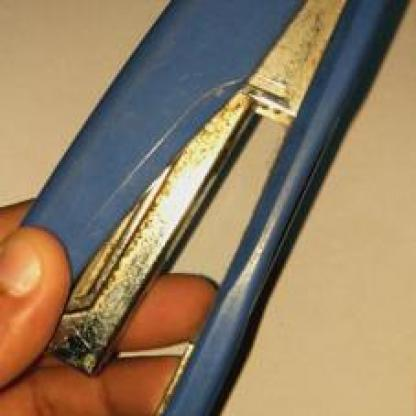stapler: (5, 0, 385, 414)
